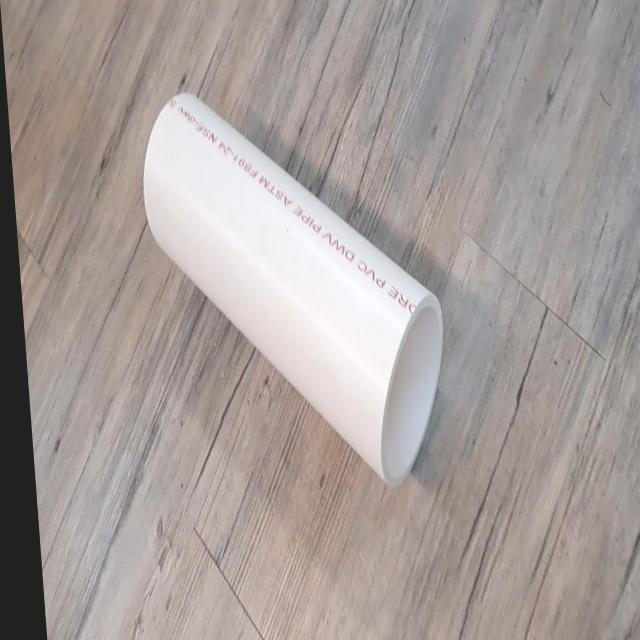CORAL: (131, 88, 465, 494)
